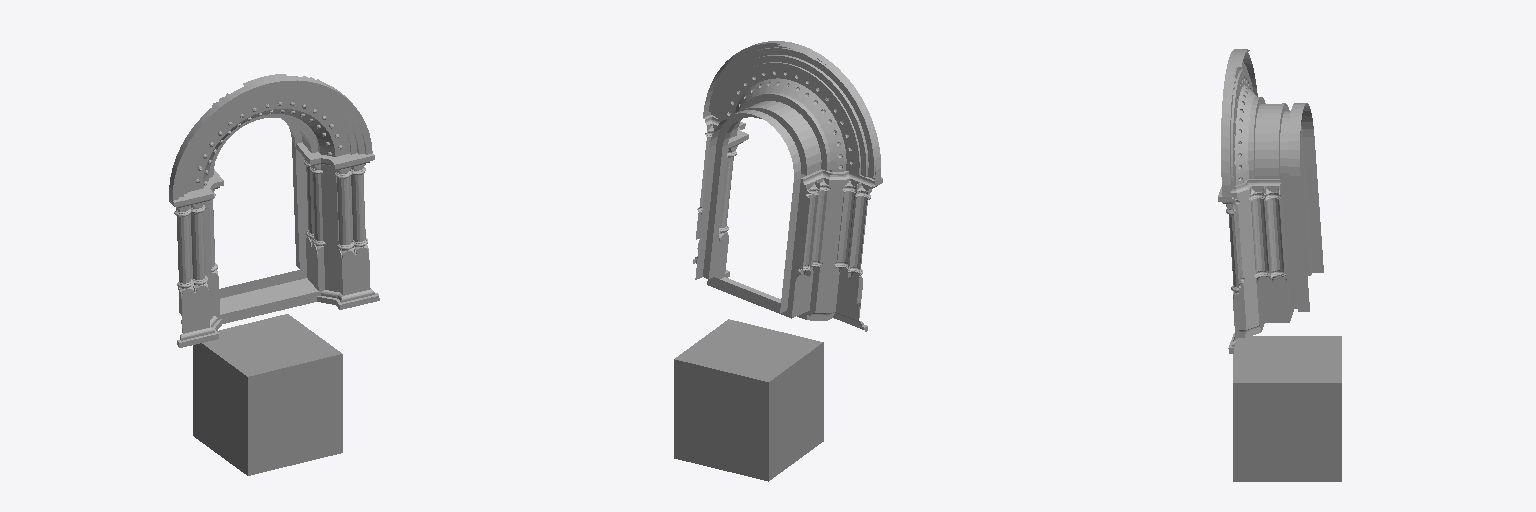
The model's file is test_blender.obj.
3 views of the same model, side by side, from view 1: azimuth 30°, elevation 25°; view 2: azimuth 150°, elevation 25°; view 3: azimuth 270°, elevation 25° (orthographic).
Parts seen in each view (by area): view 1: Layer_0, Cube; view 2: Layer_0, Cube; view 3: Layer_0, Cube.
Part boxes in pixels (left/top/right/bottom): Layer_0: left=169, top=74, right=379, bottom=347; Cube: left=193, top=314, right=342, bottom=475; Layer_0: left=693, top=41, right=882, bottom=331; Cube: left=674, top=319, right=823, bottom=481; Layer_0: left=1218, top=49, right=1323, bottom=353; Cube: left=1233, top=336, right=1341, bottom=481.
Bounding box in the file's own units: 4.16 × 7.86 × 2.27.